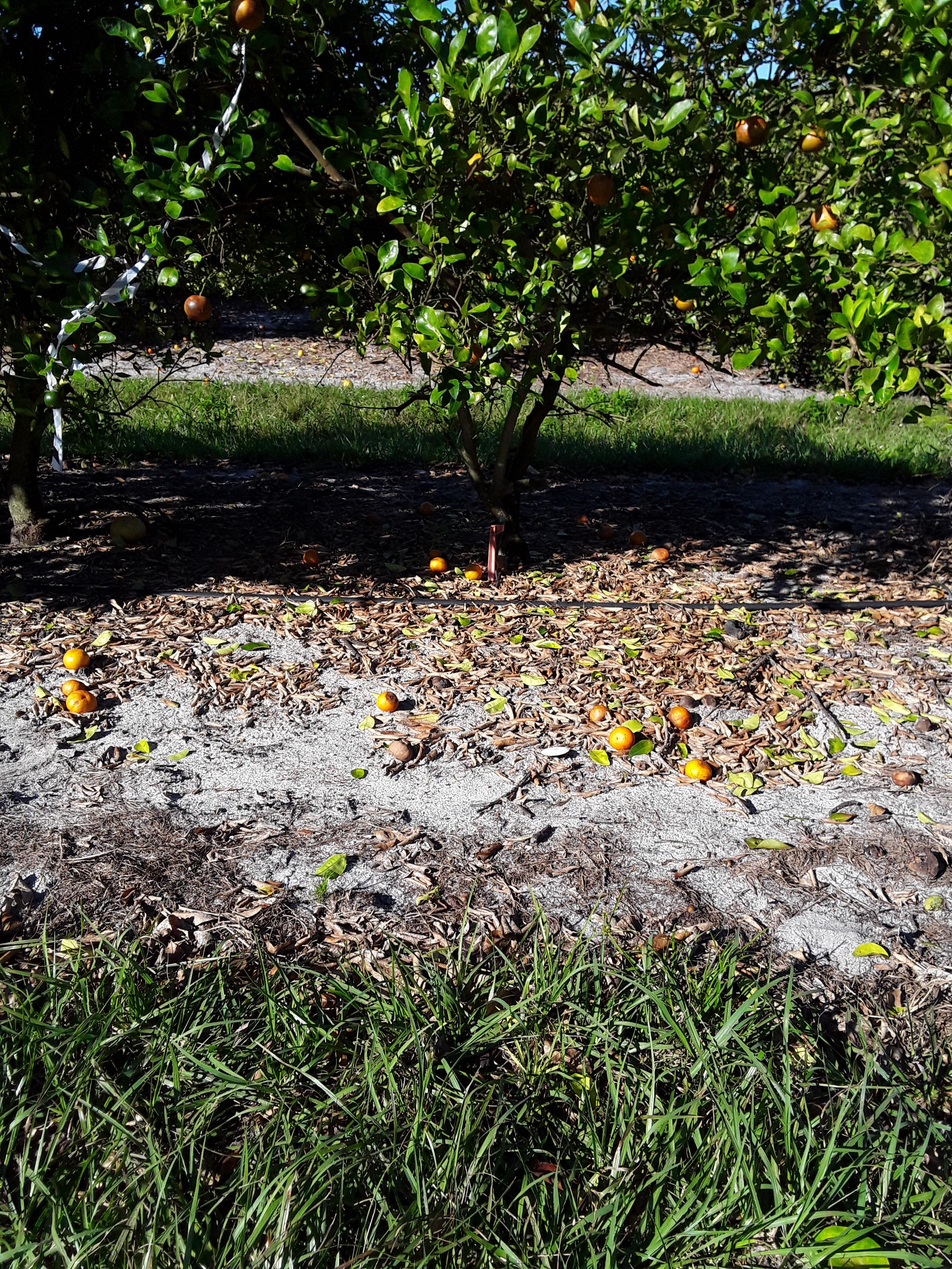fruit_on_ground: (735, 109, 766, 147), (180, 285, 211, 322), (587, 177, 615, 213), (229, 0, 258, 31), (811, 205, 837, 238), (802, 128, 827, 161), (458, 341, 482, 371), (560, 0, 596, 20), (465, 149, 483, 174), (633, 178, 653, 200), (678, 294, 696, 317), (719, 199, 736, 220), (623, 250, 642, 268), (725, 205, 740, 225), (675, 294, 691, 312)
fruit_on_tree: (665, 698, 696, 734), (628, 732, 660, 766), (67, 682, 98, 717), (606, 727, 637, 762), (686, 754, 717, 787), (114, 512, 144, 545), (851, 936, 884, 965), (383, 738, 412, 769), (67, 694, 95, 725), (377, 686, 404, 717), (68, 650, 94, 681), (587, 701, 612, 730), (925, 853, 949, 877), (891, 769, 913, 795), (630, 533, 650, 556), (426, 552, 446, 575), (597, 524, 617, 545), (469, 560, 487, 582), (464, 562, 482, 584), (651, 545, 669, 565), (601, 519, 618, 539), (631, 528, 648, 547), (304, 552, 320, 571), (418, 499, 433, 516), (422, 503, 436, 520), (576, 512, 588, 527), (341, 379, 354, 390), (690, 364, 701, 375), (145, 345, 154, 355), (777, 383, 788, 390), (256, 323, 265, 330), (173, 343, 180, 350)
